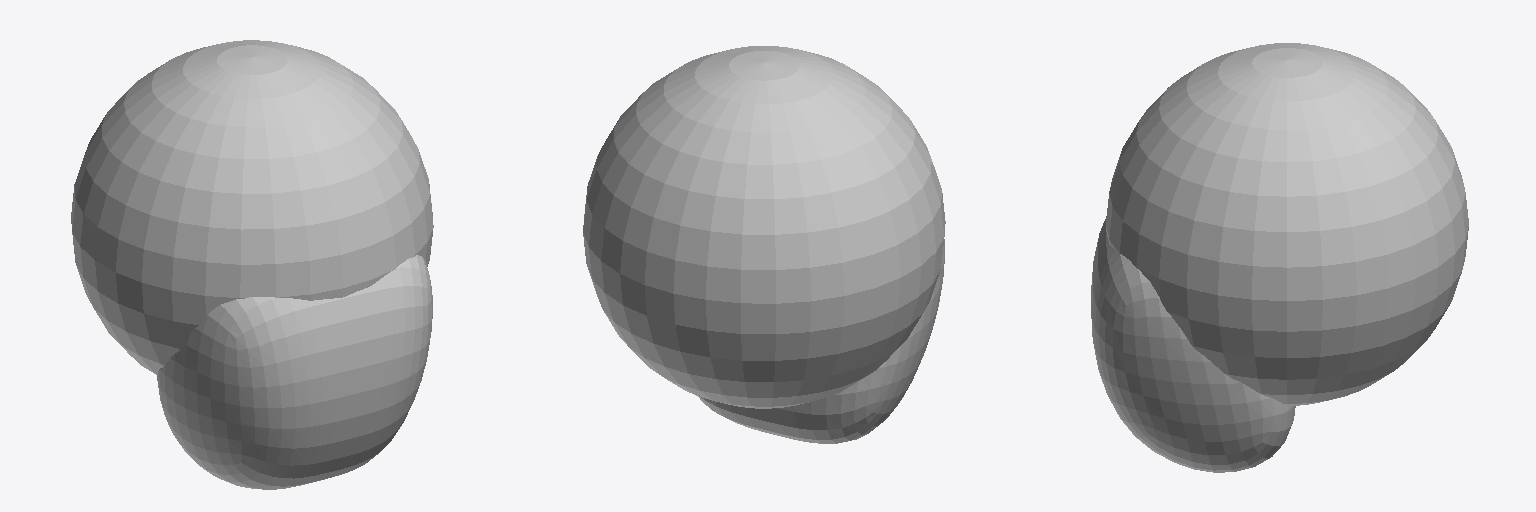
The model's file is Sample.obj.
3 views of the same model, side by side, from view 1: azimuth 30°, elevation 25°; view 2: azimuth 150°, elevation 25°; view 3: azimuth 270°, elevation 25° (orthographic).
Parts seen in each view (by area): view 1: Sphere, Cube; view 2: Sphere, Cube; view 3: Sphere, Cube.
Boxes of the visible parts, x1,y1,x2,y2 form: Sphere: [71, 40, 433, 374]; Cube: [157, 255, 432, 489]; Sphere: [583, 46, 945, 408]; Cube: [698, 239, 944, 443]; Sphere: [1106, 43, 1468, 405]; Cube: [1091, 216, 1295, 472].
Bounding box in the file's own units: 5181 × 6173 × 5393.